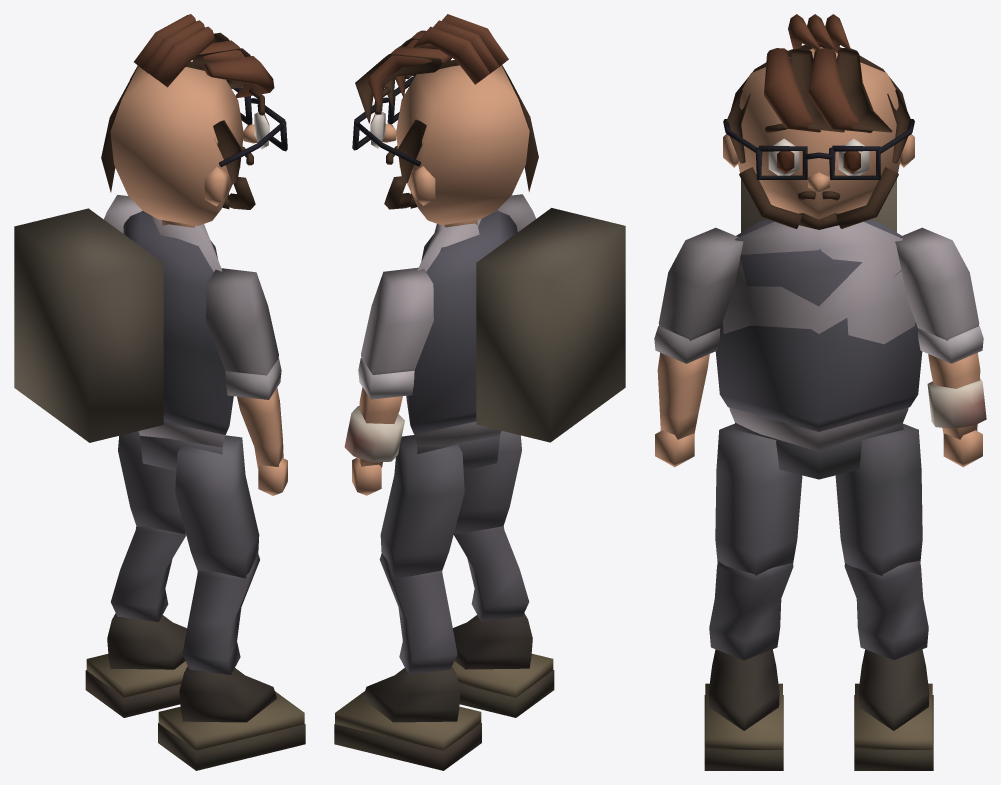
File: npc.survivor-group.aftermath.sam.lod1.glb
3 renders of one model, left to right at view 1: azimuth 30°, elevation 25°; view 2: azimuth 150°, elevation 25°; view 3: azimuth 270°, elevation 25°, orthographic. The views are drawn at different scales.
Parts seen in each view (by area): view 1: torso, head, footR, legR, footL, armR, shinR, shinL, legL, foreArmR, hip, handR (+1 smaller); view 2: torso, head, footL, legL, footR, armL, shinL, foreArmL, shinR, legR, hip, handL (+1 smaller); view 3: torso, head, legR, legL, footL, footR, armR, armL, shinL, shinR, foreArmL, foreArmR (+3 smaller).
Part boxes in pixels (x1=…): torso: x1=14, y1=208, x2=233, y2=447; head: x1=101, y1=14, x2=287, y2=227; footR: x1=158, y1=666, x2=305, y2=770; legR: x1=175, y1=435, x2=259, y2=578; footL: x1=85, y1=613, x2=187, y2=717; armR: x1=206, y1=268, x2=278, y2=375; shinR: x1=182, y1=554, x2=259, y2=674; shinL: x1=111, y1=526, x2=186, y2=621; legL: x1=118, y1=431, x2=185, y2=534; foreArmR: x1=225, y1=358, x2=283, y2=467; hip: x1=140, y1=436, x2=222, y2=470; handR: x1=258, y1=458, x2=287, y2=495; torso: x1=406, y1=208, x2=625, y2=446; head: x1=352, y1=14, x2=538, y2=227; footL: x1=334, y1=666, x2=481, y2=770; legL: x1=380, y1=435, x2=464, y2=578; footR: x1=452, y1=613, x2=554, y2=717; armL: x1=361, y1=267, x2=433, y2=374; shinL: x1=379, y1=553, x2=457, y2=674; foreArmL: x1=344, y1=358, x2=414, y2=467; shinR: x1=453, y1=526, x2=529, y2=621; legR: x1=454, y1=431, x2=521, y2=534; hip: x1=417, y1=435, x2=499, y2=470; handL: x1=352, y1=458, x2=381, y2=495; torso: x1=715, y1=179, x2=922, y2=451; head: x1=723, y1=14, x2=914, y2=229; legR: x1=715, y1=423, x2=802, y2=575; legL: x1=835, y1=424, x2=922, y2=575; footL: x1=854, y1=649, x2=933, y2=770; footR: x1=704, y1=649, x2=783, y2=770; armR: x1=658, y1=227, x2=743, y2=340; armL: x1=895, y1=227, x2=979, y2=340; shinL: x1=844, y1=561, x2=928, y2=660; shinR: x1=709, y1=561, x2=793, y2=660; foreArmL: x1=917, y1=326, x2=986, y2=439; foreArmR: x1=654, y1=326, x2=720, y2=439.
Bounding box in the file's own units: 0.5657 × 1.78 × 0.7435.
